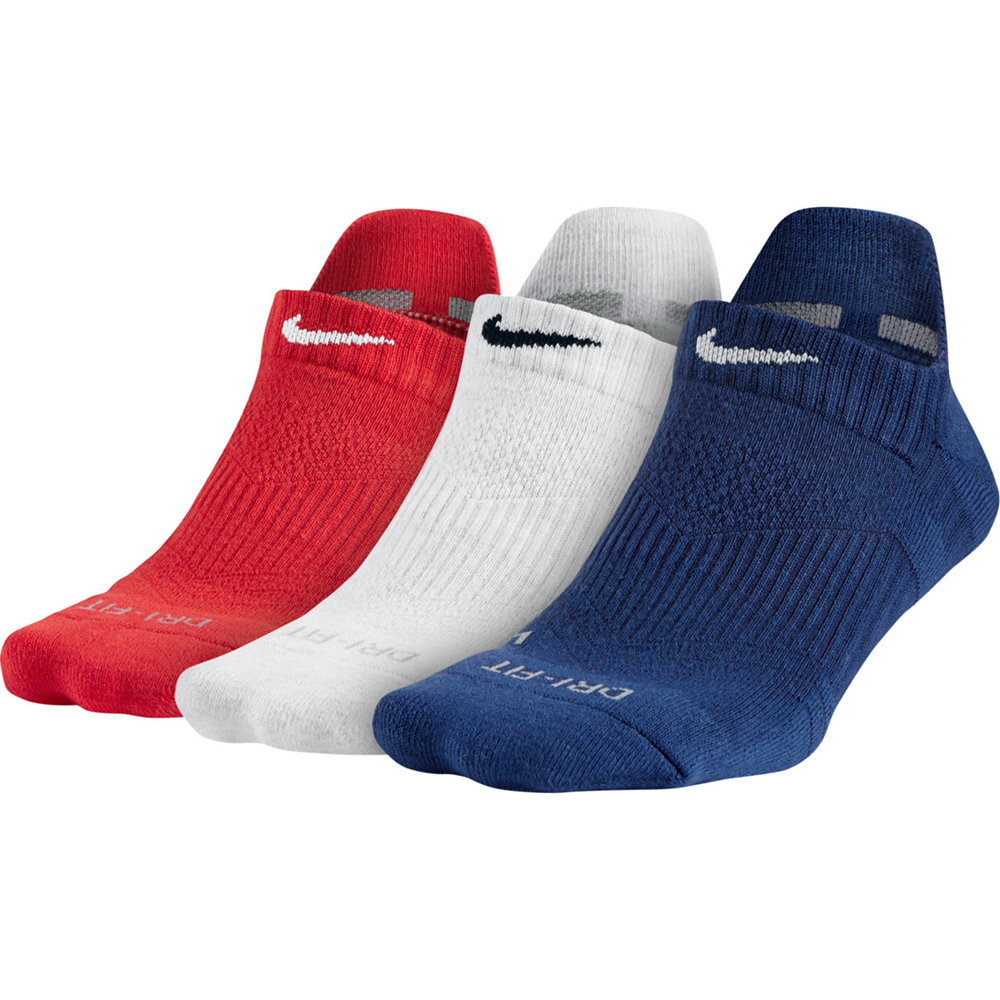Nike: (689, 326, 821, 369), (277, 310, 401, 353), (479, 309, 605, 350)
